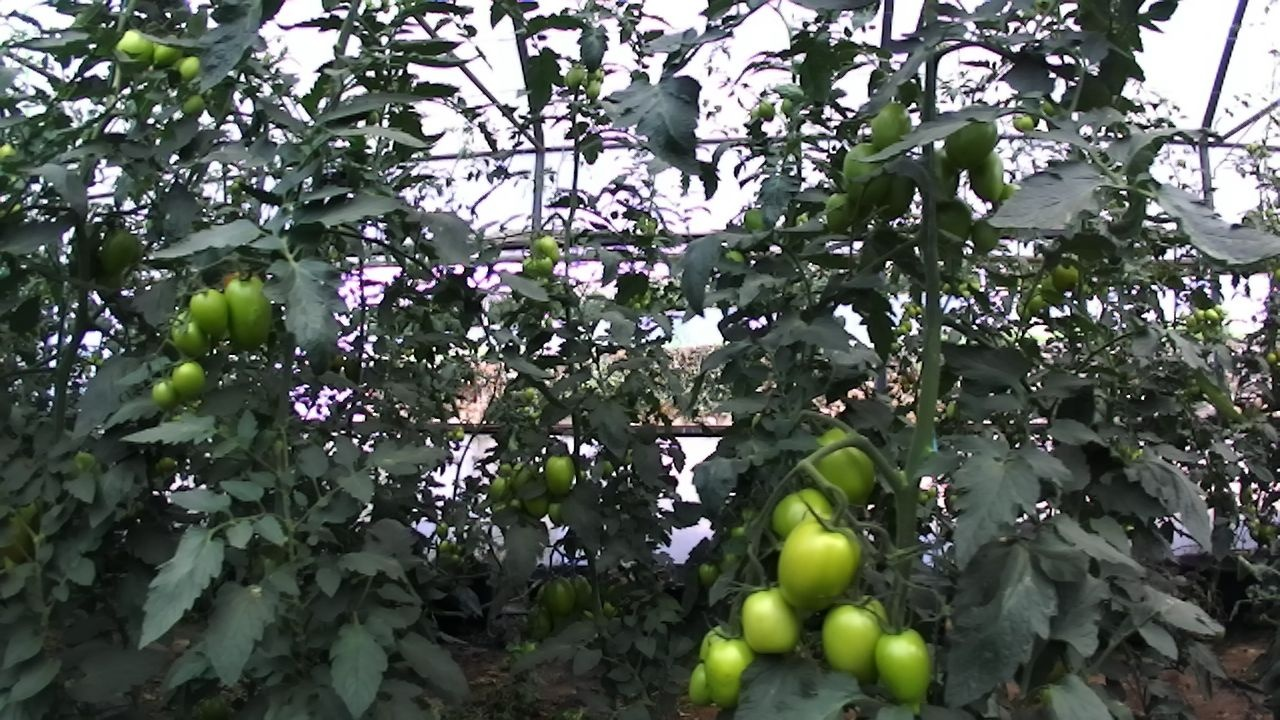tomato: (762, 503, 880, 623), (781, 413, 899, 516), (818, 584, 900, 686), (866, 617, 946, 712), (730, 575, 812, 662), (761, 476, 849, 549), (697, 628, 763, 714), (217, 270, 280, 360), (870, 143, 929, 223), (836, 135, 897, 208), (937, 111, 1004, 174), (920, 190, 980, 257), (866, 95, 923, 165), (958, 141, 1015, 209), (182, 279, 238, 345), (163, 303, 216, 361), (679, 656, 724, 714), (737, 197, 786, 250), (109, 22, 159, 71), (818, 185, 863, 234), (539, 448, 580, 501), (165, 356, 211, 403), (964, 211, 1006, 258), (543, 571, 583, 620), (148, 30, 189, 70), (1046, 256, 1085, 296), (503, 456, 540, 497), (146, 372, 185, 410), (171, 49, 205, 84), (179, 90, 210, 121), (695, 557, 723, 590), (561, 61, 588, 95), (542, 497, 572, 527), (484, 474, 512, 505), (580, 73, 606, 103), (531, 252, 560, 278), (755, 96, 779, 124), (537, 232, 559, 257)
